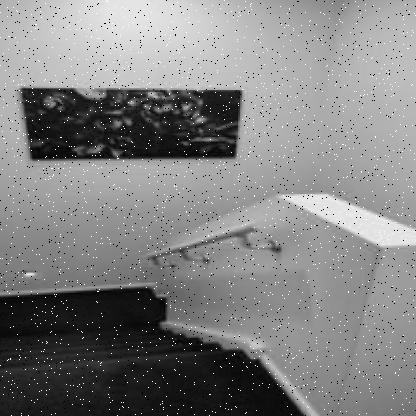stair_down: (2, 320, 207, 400)
